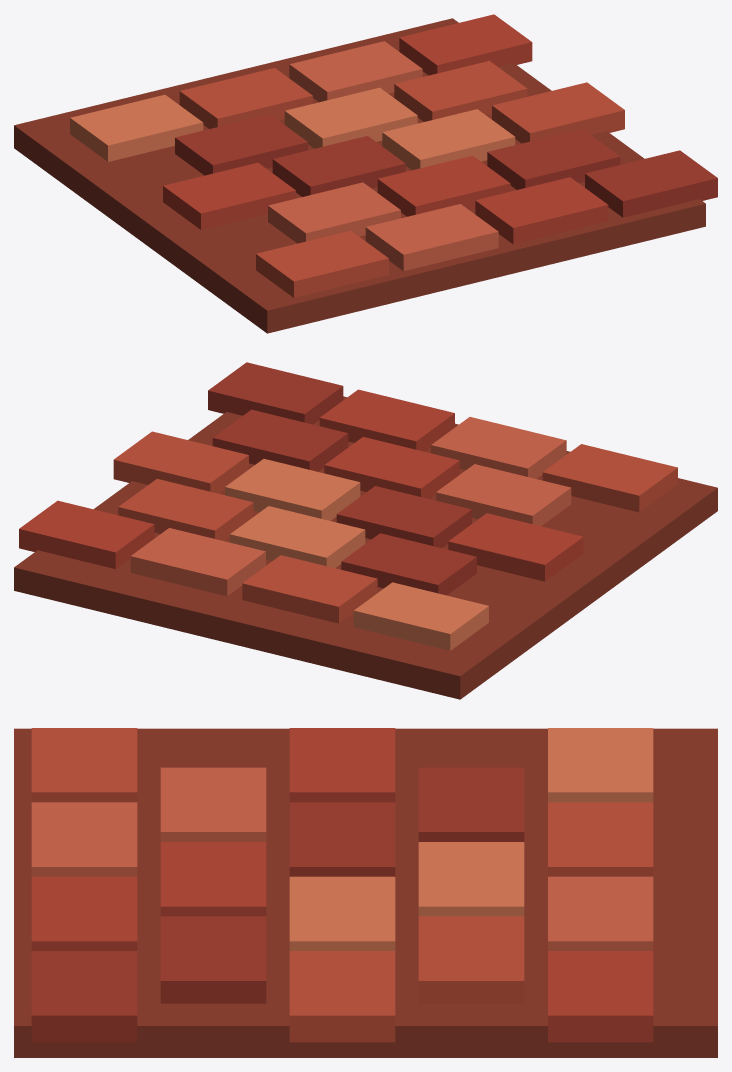
The model's file is vn_path_terracotta.glb.
The picture shows the model from 3 angles, top to bottom: view 1: azimuth 30°, elevation 25°; view 2: azimuth 150°, elevation 25°; view 3: azimuth 270°, elevation 25°; orthographic projection. The views are drawn at different scales.
Parts seen in each view (by area): view 1: path_tile; view 2: path_tile; view 3: path_tile.
Boxes of the visible parts, left/top/right/bottom form: path_tile: left=14, top=14, right=717, bottom=333; path_tile: left=14, top=362, right=717, bottom=699; path_tile: left=14, top=728, right=717, bottom=1057.
Size of the model in its own units: 0.625 by 0.0515 by 0.6.
